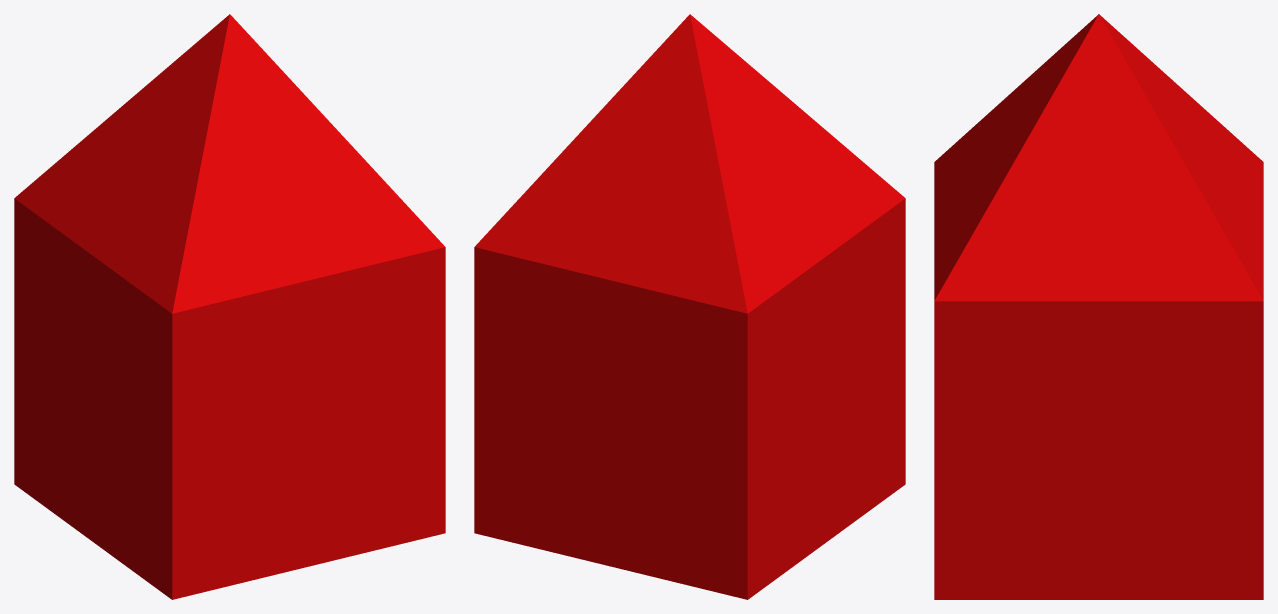
Rendered from pravilno e sega.fbx.
The picture shows the model from 3 angles, left to right: view 1: azimuth 30°, elevation 25°; view 2: azimuth 150°, elevation 25°; view 3: azimuth 270°, elevation 25°; orthographic projection. The views are drawn at different scales.
Parts seen in each view (by area): view 1: Cube; view 2: Cube; view 3: Cube.
Part boxes in pixels (x1,y1,x2,y2): Cube: (14,14,445,599); Cube: (474,14,905,599); Cube: (934,14,1263,599).
Bounding box in the file's own units: 200 × 346 × 200.
